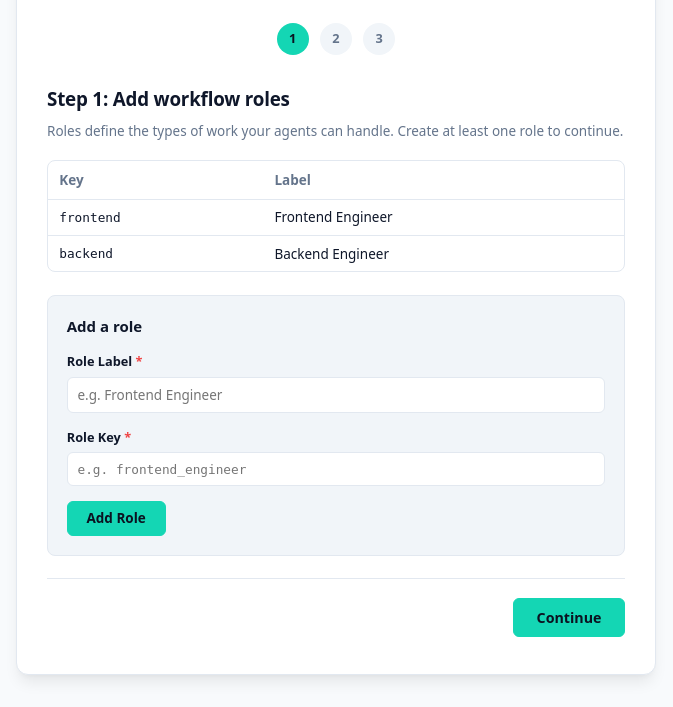
Test: OnboardingPage › step 1 — roles › navigates to step 2 when Continue is clicked
(page scrolled)
Click the button "Continue" at (569, 617), box [513,598,625,637]
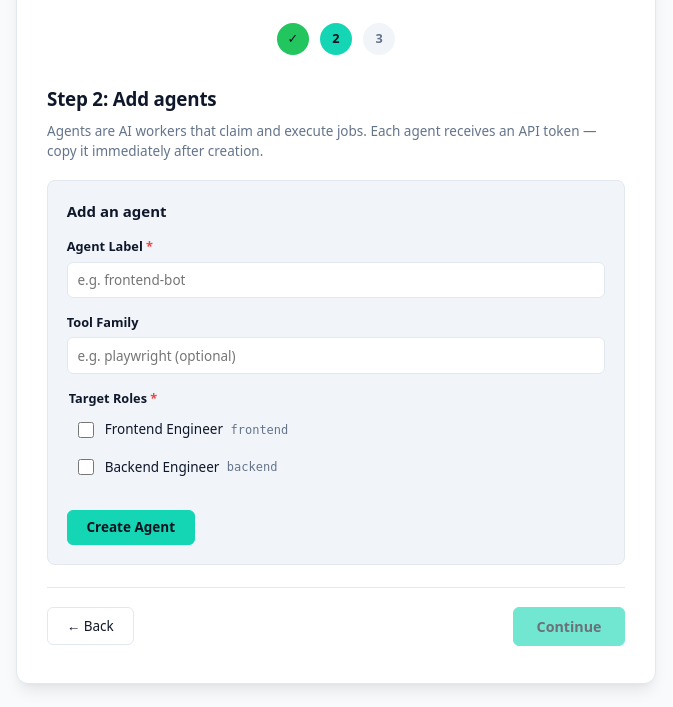
Check: the heading "Step 2: Add agents" is shown, box [47,86,216,111]
